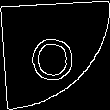O_N: (30, 27, 80, 83)
